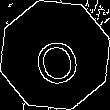O_N: (27, 24, 83, 86)
